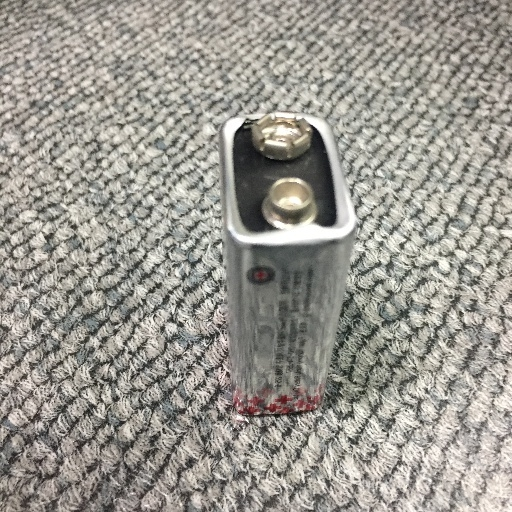Battery_3: (190, 90, 366, 435)
